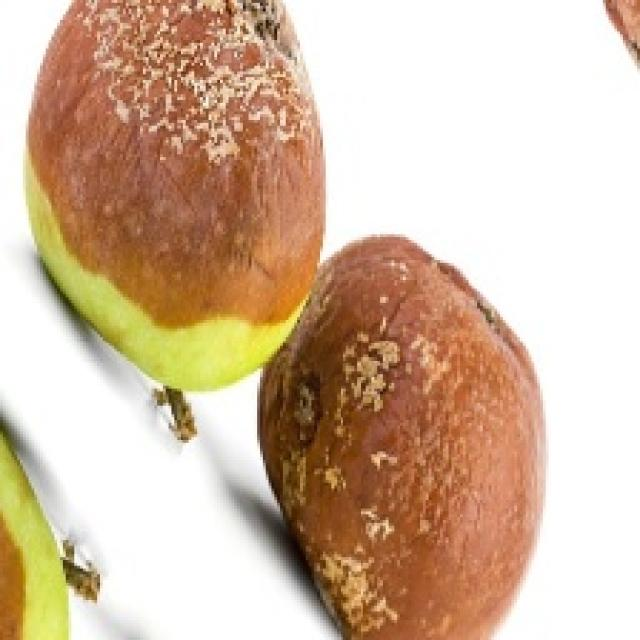rotten_apple: (30, 0, 321, 387), (291, 241, 547, 632)
